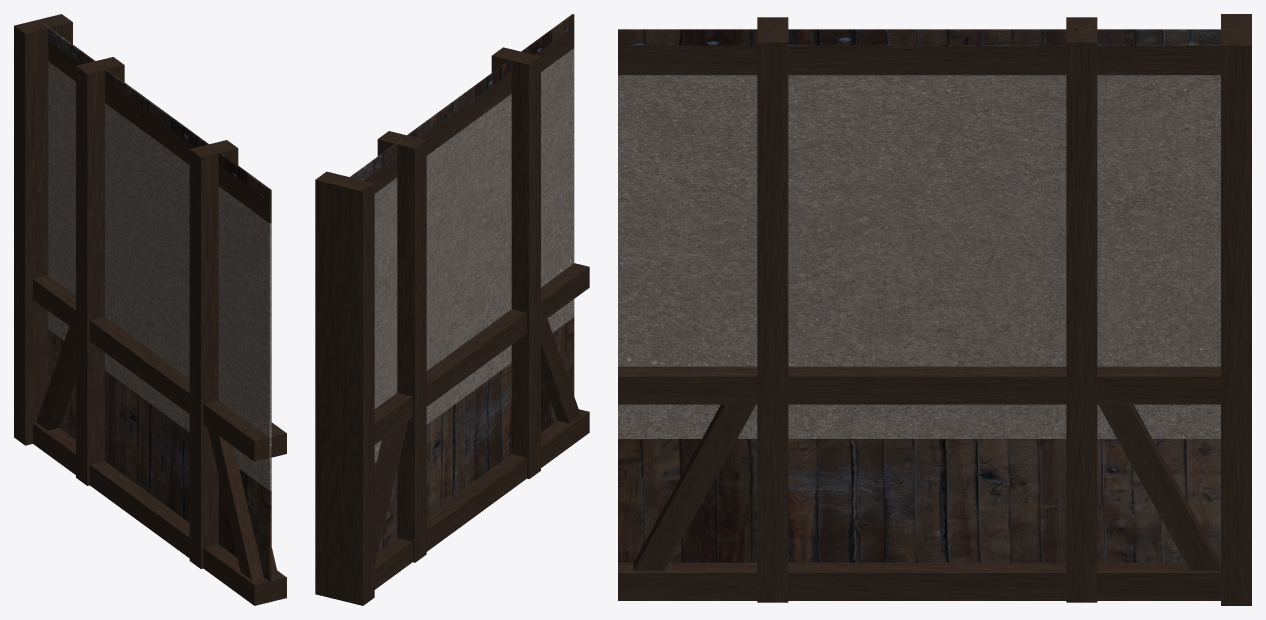
The model's file is OutdoorArchitecture_BasicWall01_RightEdge_BShortt.fbx.
3 views of the same model, side by side, from view 1: azimuth 30°, elevation 25°; view 2: azimuth 150°, elevation 25°; view 3: azimuth 270°, elevation 25° (orthographic). The views are drawn at different scales.
Parts seen in each view (by area): view 1: OutdoorArchitecture_BasicWall01_RightEdge_BShortt; view 2: OutdoorArchitecture_BasicWall01_RightEdge_BShortt; view 3: OutdoorArchitecture_BasicWall01_RightEdge_BShortt.
Part boxes in pixels (x1,y1,x2,y2): OutdoorArchitecture_BasicWall01_RightEdge_BShortt: (14,14,286,605); OutdoorArchitecture_BasicWall01_RightEdge_BShortt: (315,14,589,605); OutdoorArchitecture_BasicWall01_RightEdge_BShortt: (618,14,1251,605).
Bounding box in the file's own units: 36.37 × 300 × 308.
